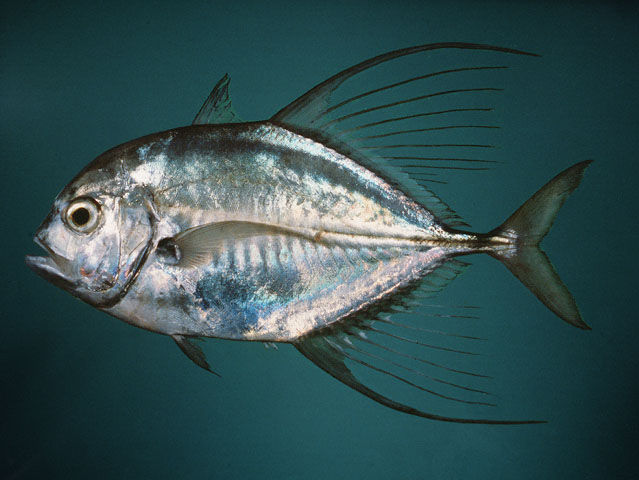fish: (26, 41, 593, 425)
